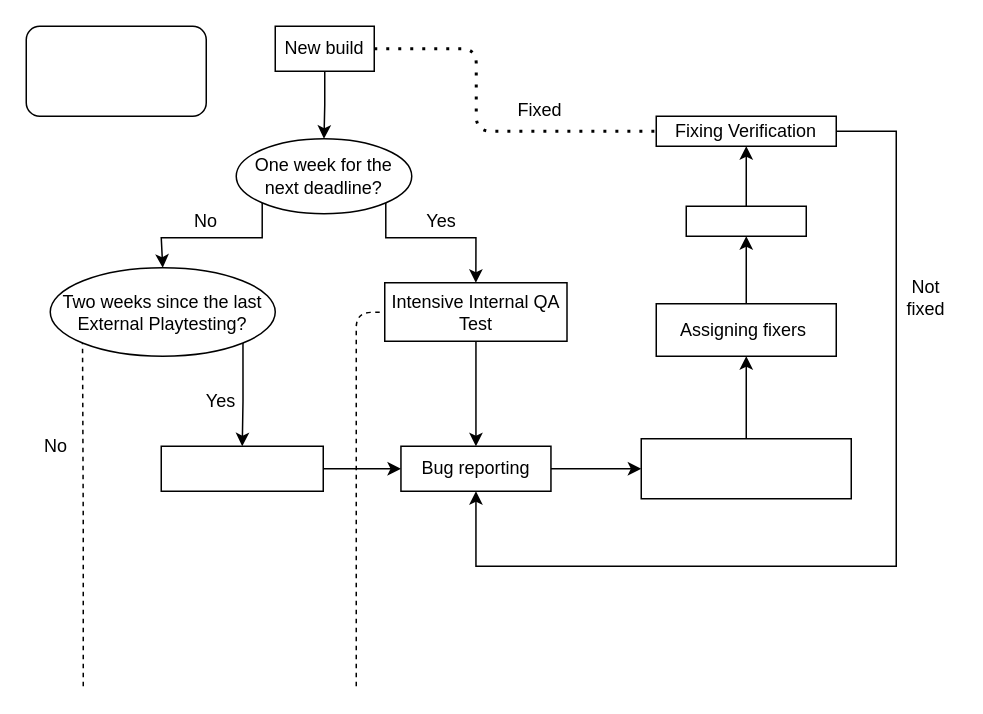
This 983x714 diagram has some shape labels left out. Each missing label, with the centre of its shape:
"Bug confirmation and discussion" goes at point 745,468.
"Fixing" goes at point 745,220.
"Internal QA Test" goes at point 241,468.
"Internal QA Testing Process" goes at point 115,70.
